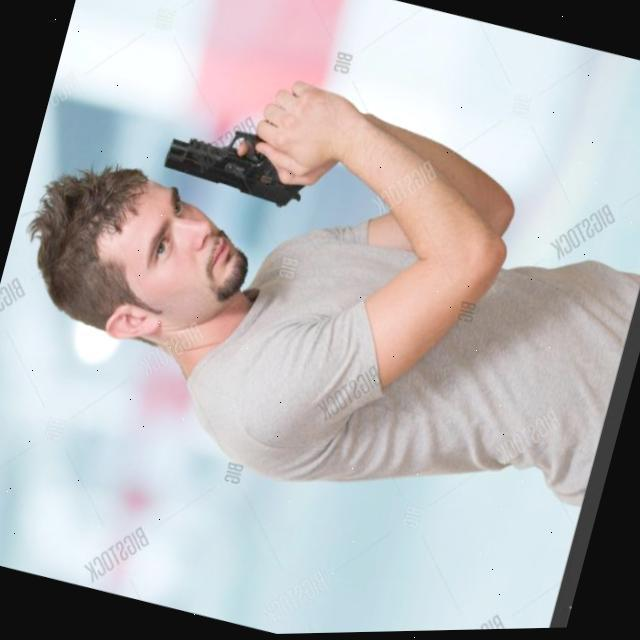gun: (156, 105, 311, 218)
